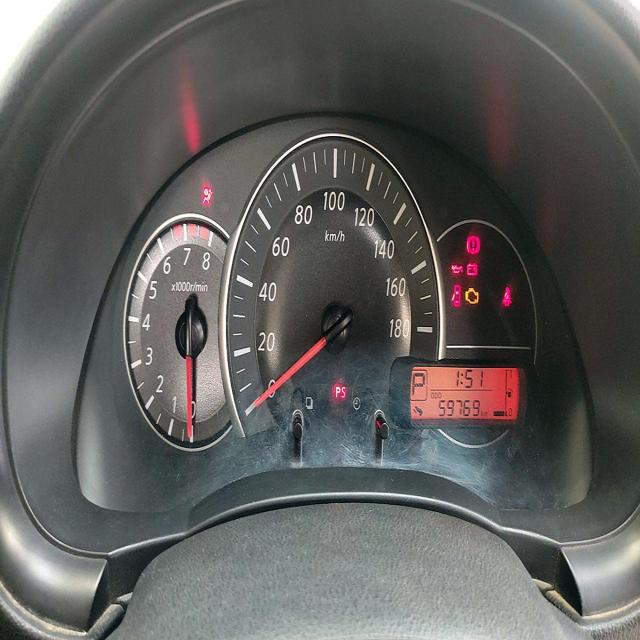odometer: (433, 395, 481, 421)
